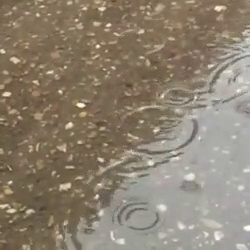drop: (163, 43, 250, 103), (118, 105, 198, 153), (113, 200, 160, 232), (119, 27, 166, 56), (159, 87, 197, 108), (180, 178, 201, 195), (239, 100, 250, 115)
